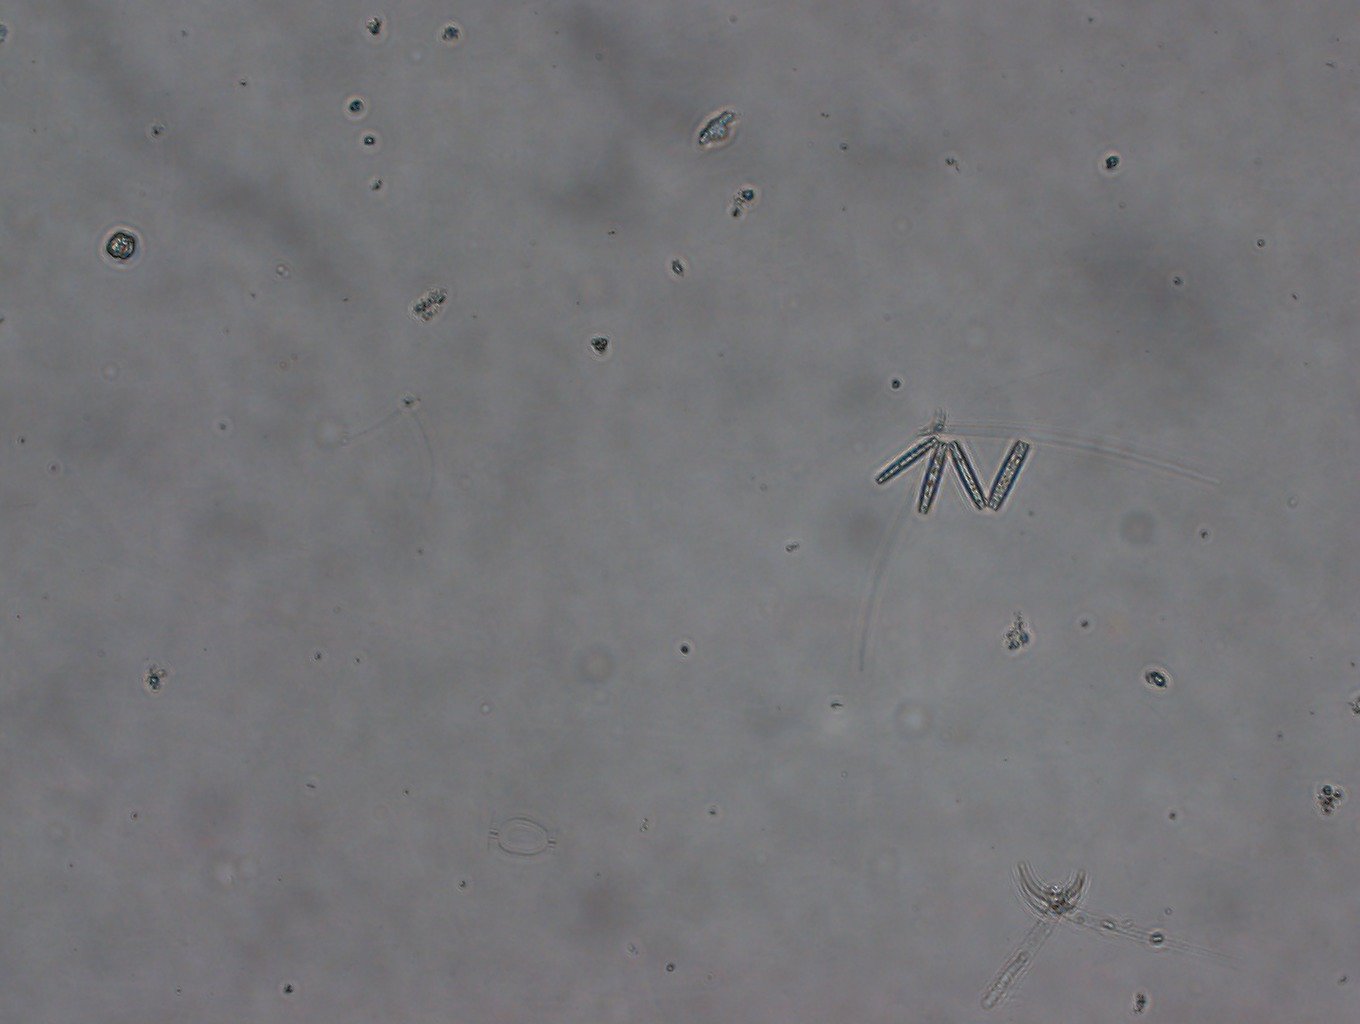thalassionema nitzschioides: (876, 436, 1032, 512)
